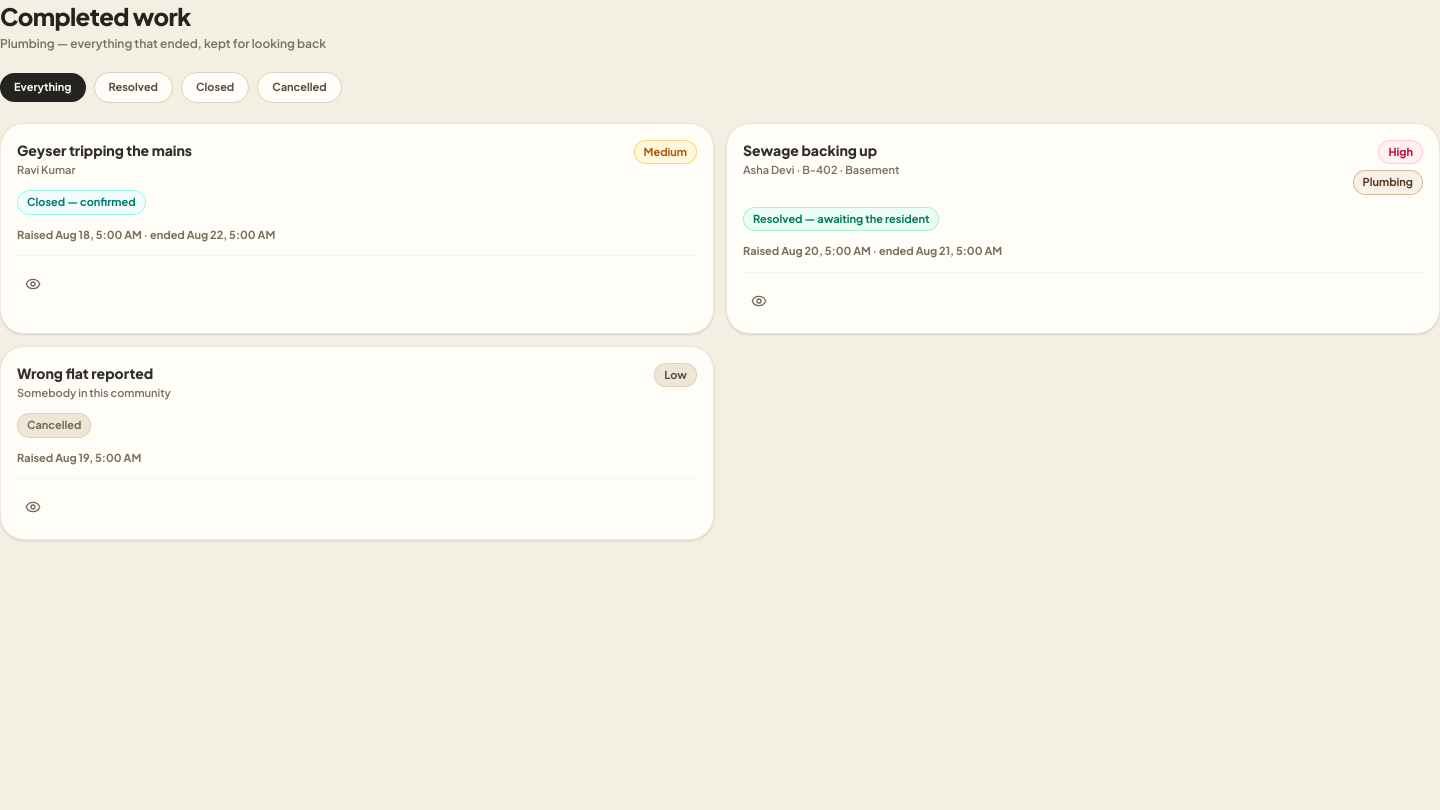
Test: the completed-work archive › speaks the archive label inside the popup too, for a closed complaint
The width and height of the screenshot is (1440, 810).
Expected: the heading "Geyser tripping the mains" is shown, [17, 140, 192, 160]
What coordinates should you click on to do the following:
click the button named "View details of Geyser tripping the mains"
I would click on:
 (33, 284)
Its box is [17, 268, 49, 300].
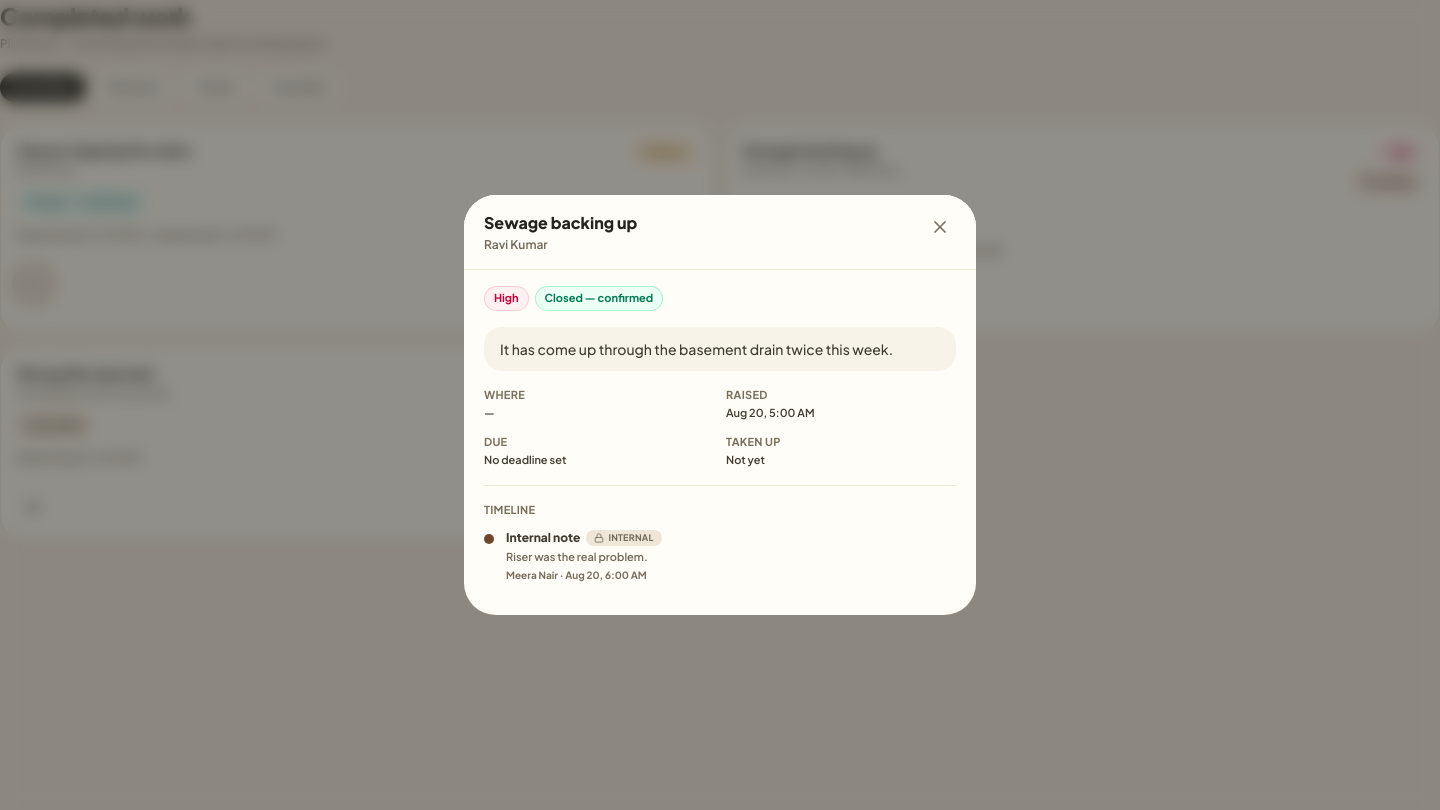
Expected: the text "Closed — confirmed" is shown, [534, 286, 663, 311]
